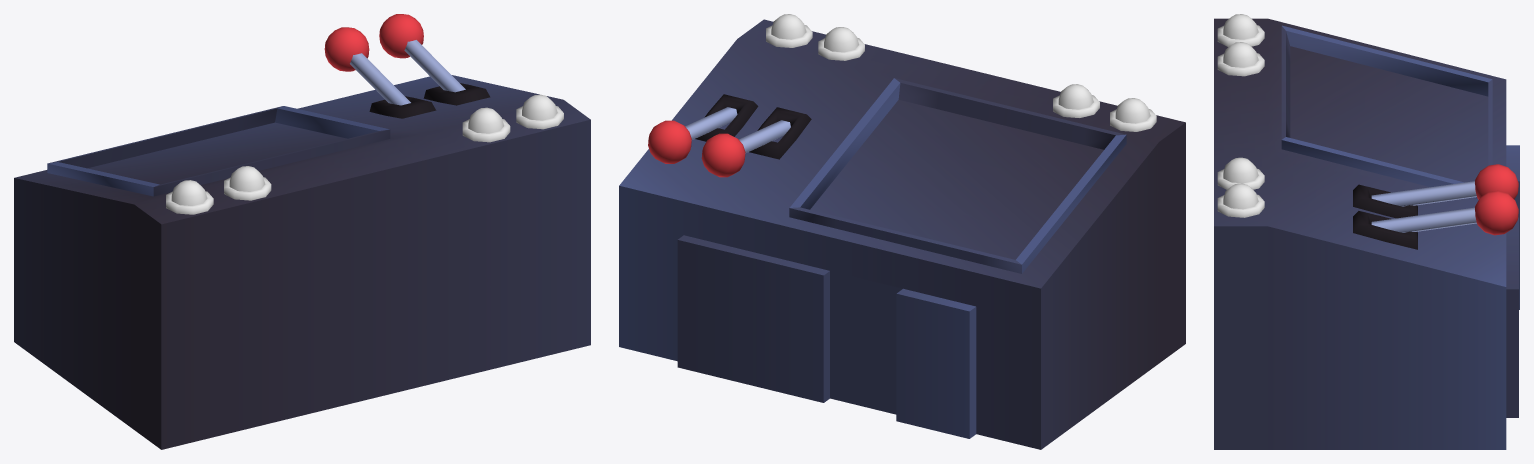
File: device (1) 1.fbx
The picture shows the model from 3 angles, left to right: view 1: azimuth 30°, elevation 25°; view 2: azimuth 150°, elevation 25°; view 3: azimuth 270°, elevation 25°; orthographic projection.
Parts seen in each view (by area): view 1: Torus, Torus.001, Sphere.001; view 2: Torus, Sphere.001, Torus.001; view 3: Torus, Torus.001, Sphere.001.
Part boxes in pixels (x1,y1,x2,y2): Torus: [14, 75, 590, 449]; Torus.001: [324, 14, 465, 105]; Sphere.001: [166, 94, 563, 214]; Torus: [619, 19, 1185, 449]; Sphere.001: [766, 14, 1156, 131]; Torus.001: [648, 107, 790, 177]; Torus: [1214, 18, 1519, 449]; Torus.001: [1371, 164, 1518, 235]; Sphere.001: [1217, 14, 1264, 217].
Bounding box in the file's own units: 590 × 326 × 367.
